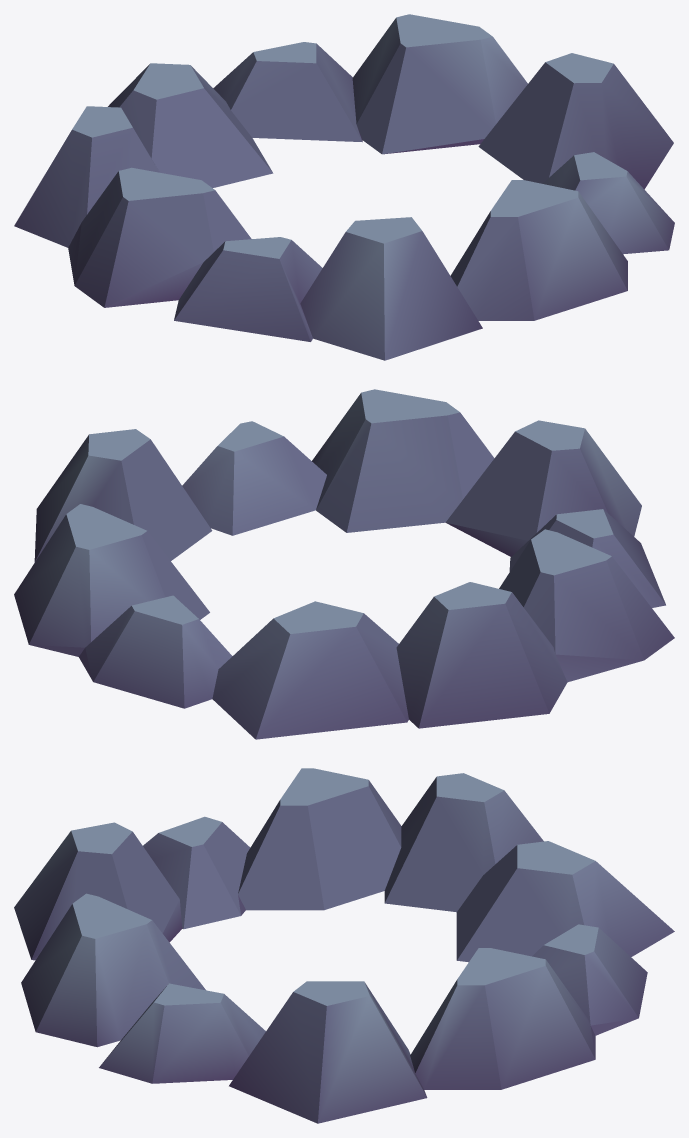
File: campfire-stone.fbx
The picture shows the model from 3 angles, top to bottom: view 1: azimuth 30°, elevation 25°; view 2: azimuth 150°, elevation 25°; view 3: azimuth 270°, elevation 25°; orthographic projection. The views are drawn at different scales.
Visible parts, largest first — view 1: campfire_stones; view 2: campfire_stones; view 3: campfire_stones.
Part boxes in pixels (bbox=[...]): campfire_stones: bbox=[14, 14, 674, 360]; campfire_stones: bbox=[14, 389, 674, 739]; campfire_stones: bbox=[14, 768, 674, 1123].
Bounding box in the file's own units: 54.08 × 7.78 × 51.55.
